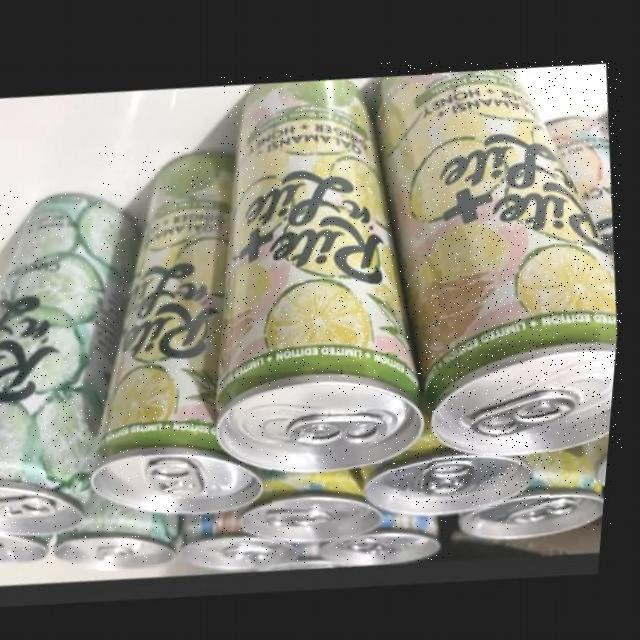metal: (380, 61, 622, 449), (221, 74, 432, 469), (99, 146, 272, 512), (0, 191, 142, 534), (369, 410, 550, 507), (369, 411, 549, 507), (466, 437, 612, 532), (244, 465, 391, 537), (63, 490, 192, 566), (190, 506, 308, 564), (328, 505, 449, 561), (0, 531, 61, 563)
